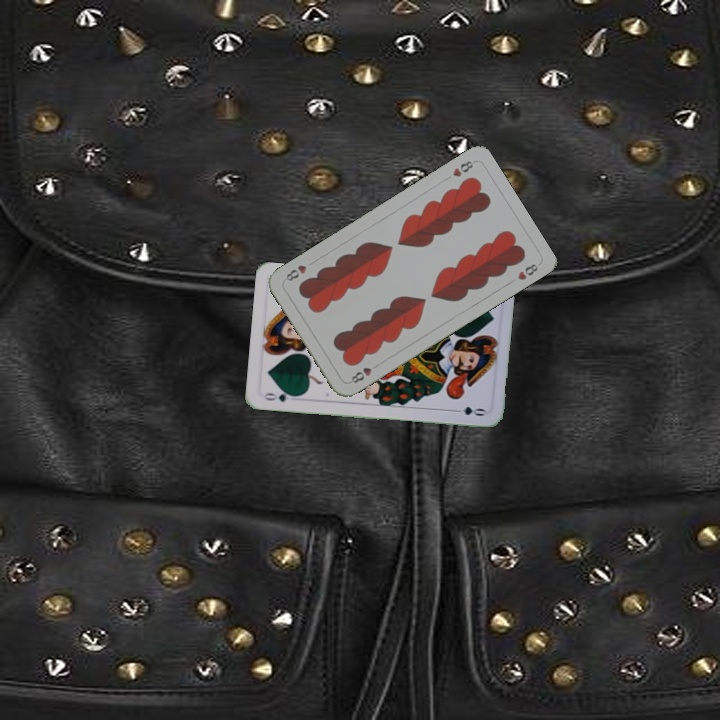GO: (260, 387, 300, 405)
H8: (347, 359, 382, 386), (448, 157, 477, 179)
